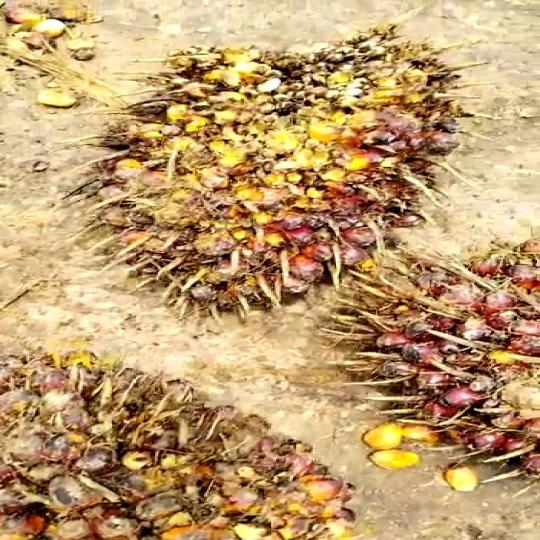masak: (106, 29, 492, 310), (0, 347, 411, 540)
